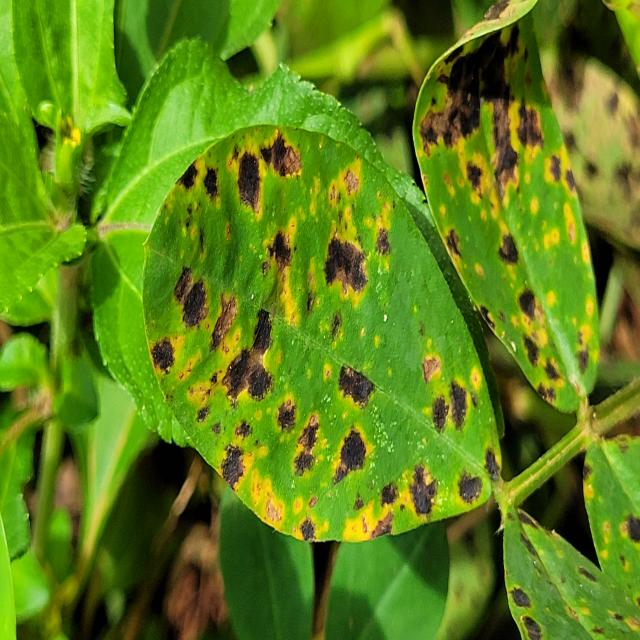Ground nut_tikka leaf spot: (142, 116, 502, 543), (412, 0, 603, 406)
